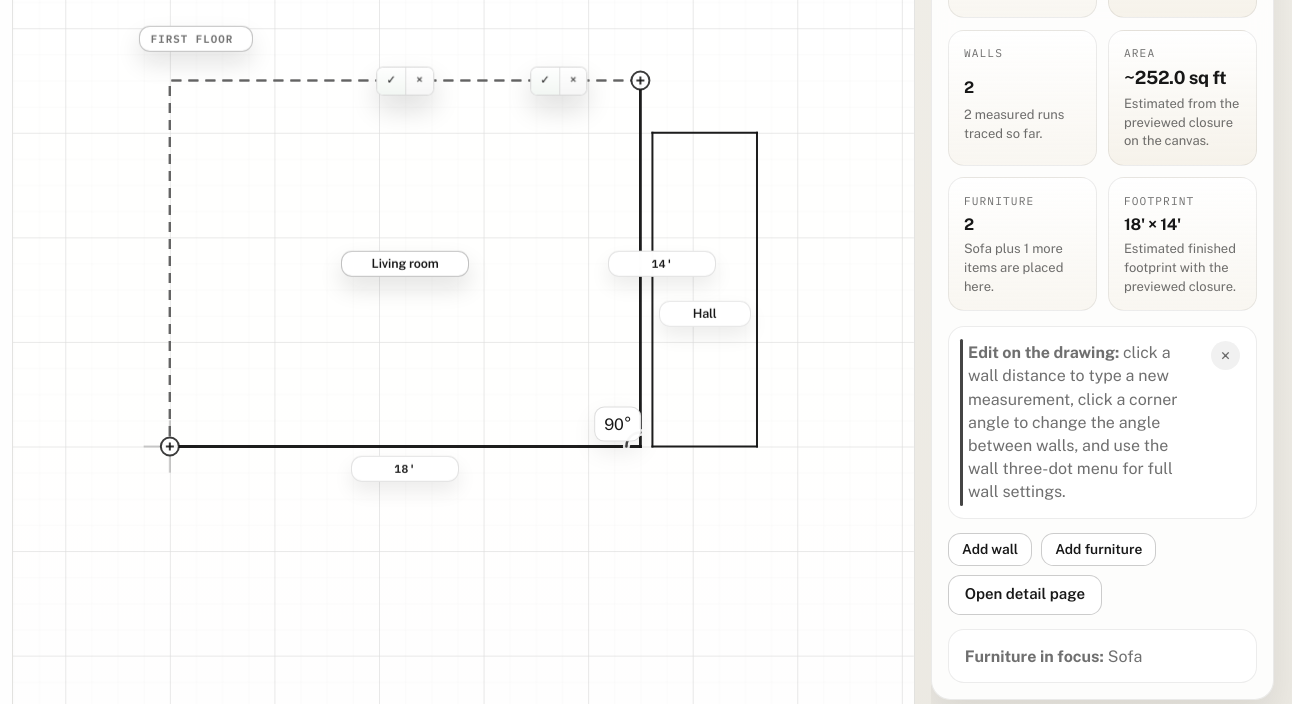
Test: workspace interactions › lets the drawing hint be dismissed permanently
(page scrolled)
Expected: the element with test id "drawing-tip" is shown, [948,326,1257,519]
Click the button named "Dismiss drawing tip": [1225, 356] box [1211,341,1240,370]
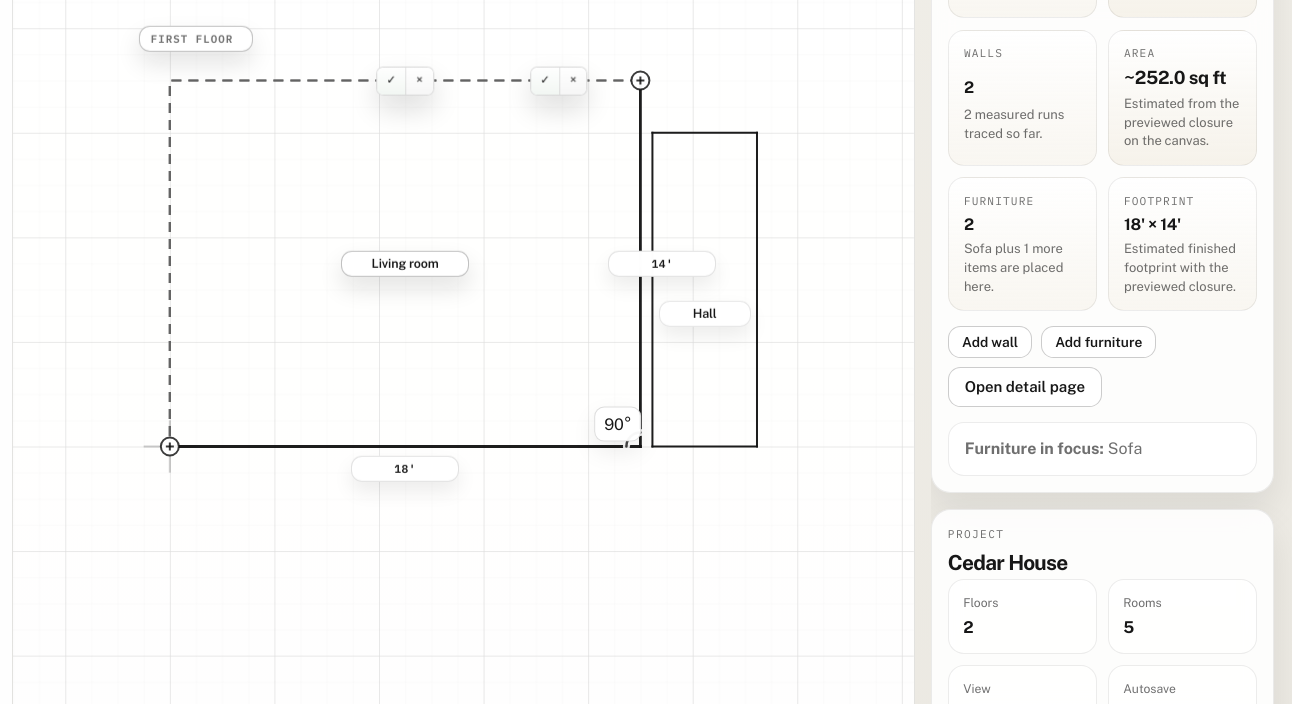
Now the element with test id "drawing-tip" is gone
